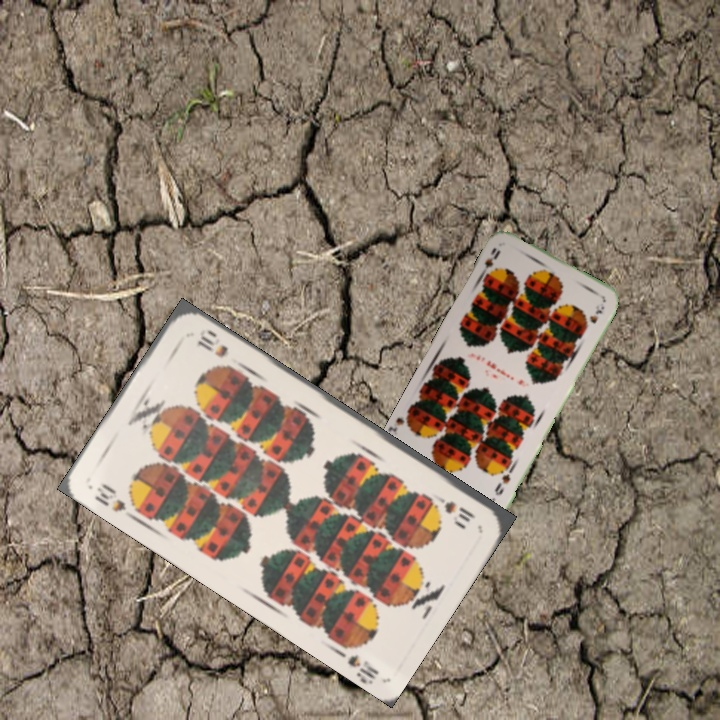S10: (90, 479, 139, 523), (427, 489, 478, 525)
S9: (477, 244, 503, 280), (490, 462, 516, 498)
